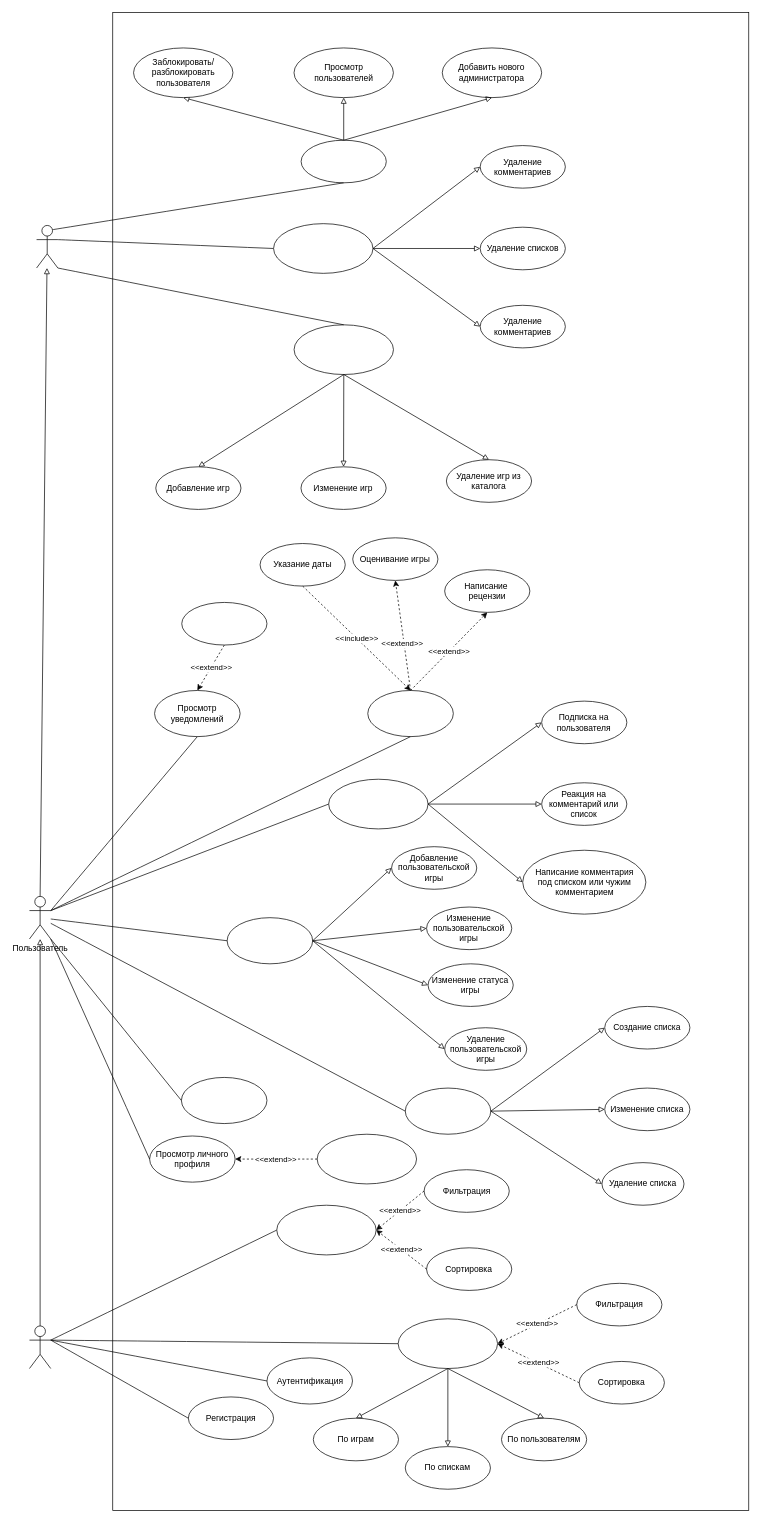
This 761x1523 diagram has some shape labels left out. Here are the shapes that lost their labels. From the top down, the centre of each, then its label:
At point 343,161: "Управление пользователями".
At point 47,246: "Администратор".
At point 323,248: "Модерация контента".
At point 343,349: "Управление каталогом игр".
At point 224,623: "Пометить уведомленние как прочитанное".
At point 410,713: "Добавление записи об игре".
At point 378,804: "Социальные взаимодействия".
At point 269,940: "Управление библиотекой игр".
At point 224,1100: "Импорт библиотеки из Steam".
At point 448,1110: "Управление списками".
At point 366,1159: "Изменить данные профиля".
At point 326,1230: "Просмотр каталога игр".
At point 40,1347: "Гость".
At point 447,1343: "Поиск".
